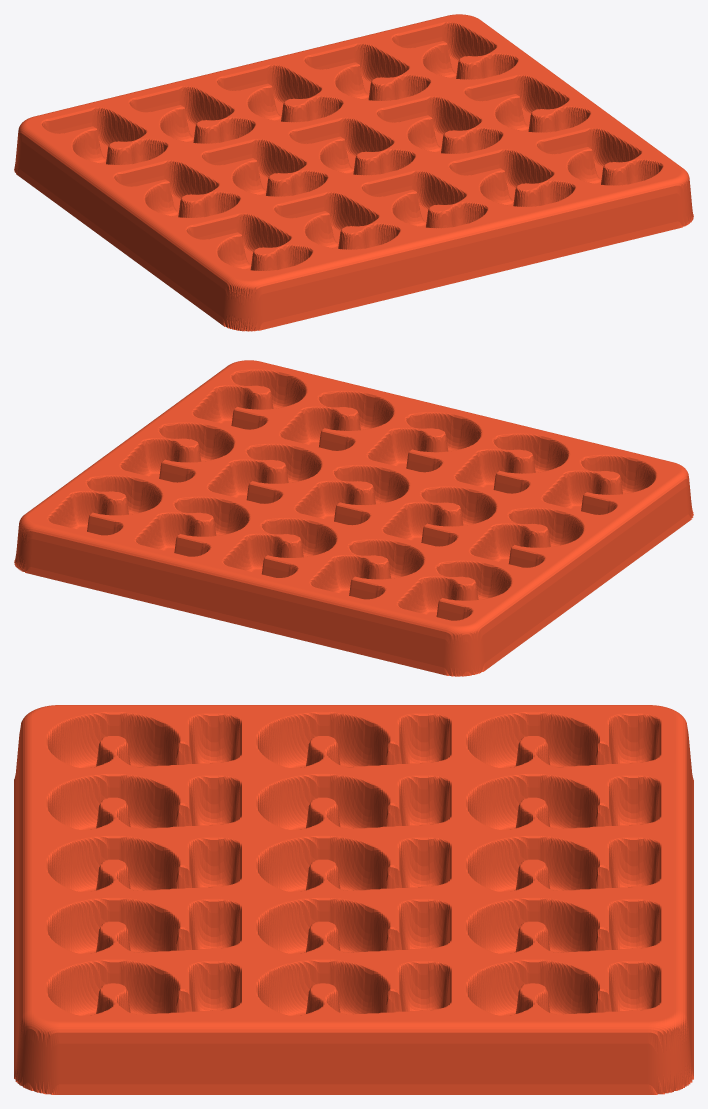
Rendered from mold.glb.
3 views of the same model, one above another, from view 1: azimuth 30°, elevation 25°; view 2: azimuth 150°, elevation 25°; view 3: azimuth 270°, elevation 25° (orthographic). The views are drawn at different scales.
Parts seen in each view (by area): view 1: geometry_0; view 2: geometry_0; view 3: geometry_0.
Boxes of the visible parts, bbox=[...] form: geometry_0: bbox=[14, 14, 693, 331]; geometry_0: bbox=[14, 360, 693, 676]; geometry_0: bbox=[14, 705, 693, 1094].
Size of the model in its own units: 0.1568 by 0.0145 by 0.1361.
